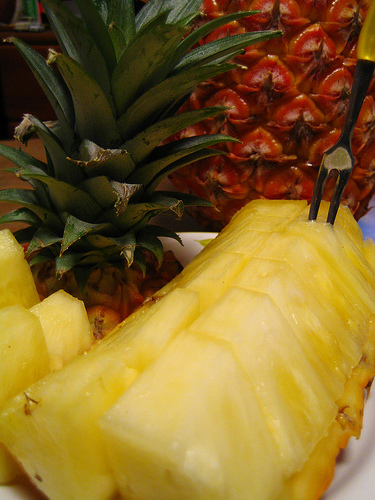pineapple: (1, 197, 373, 498), (0, 0, 282, 336), (96, 195, 371, 498), (176, 1, 373, 223)
